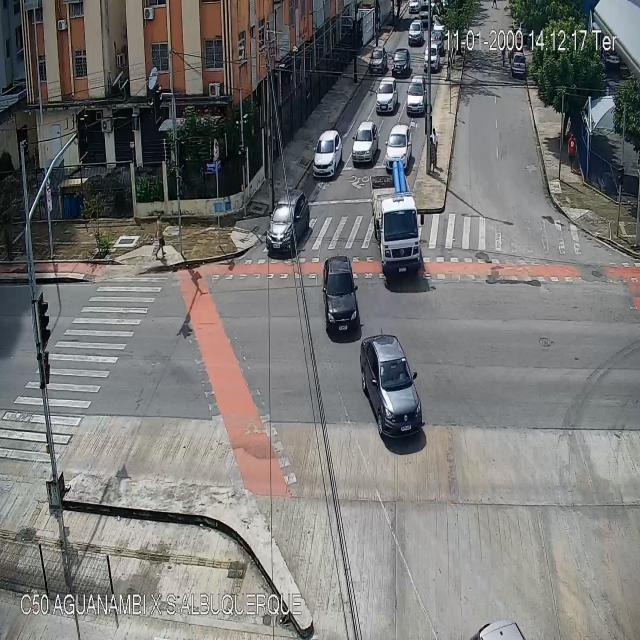Car: (361, 333, 422, 440), (321, 257, 361, 337), (266, 190, 311, 256), (313, 128, 342, 176), (385, 126, 411, 170), (353, 121, 379, 164), (406, 77, 426, 116), (377, 78, 397, 112), (392, 46, 412, 78), (369, 48, 387, 73), (422, 46, 438, 74), (431, 30, 444, 54), (409, 21, 422, 44), (512, 53, 524, 75)
Truck: (371, 173, 425, 273)
